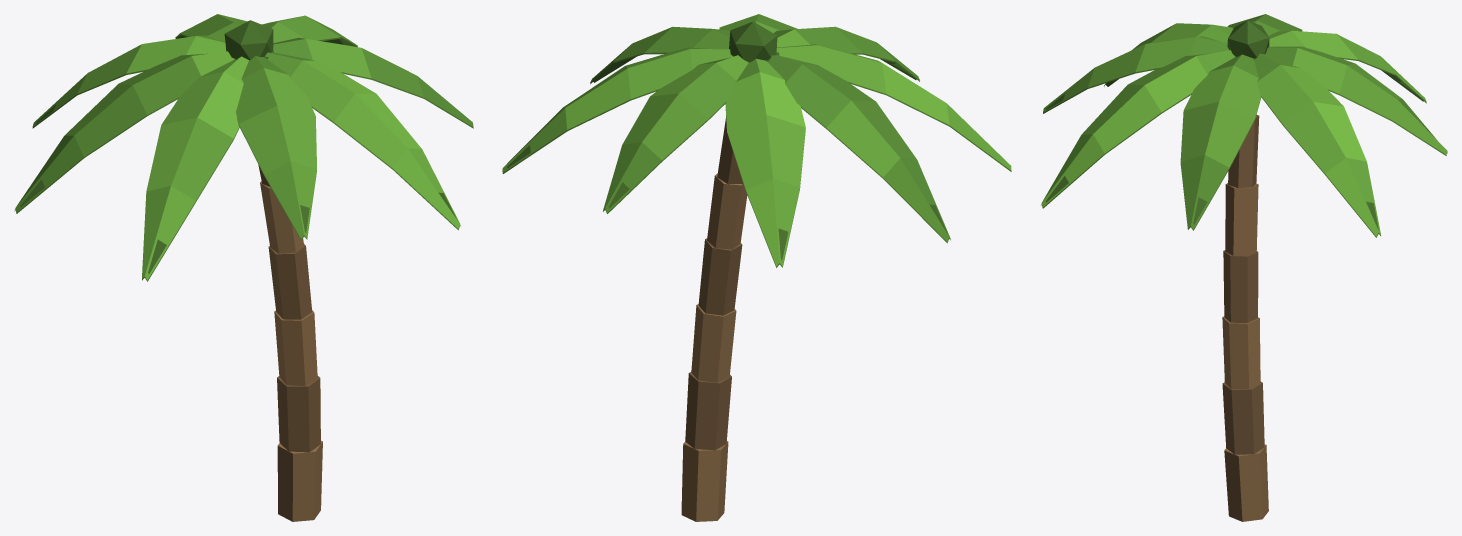
The model's file is palm_b.glb.
The picture shows the model from 3 angles, left to right: view 1: azimuth 30°, elevation 25°; view 2: azimuth 150°, elevation 25°; view 3: azimuth 270°, elevation 25°; orthographic projection. The views are drawn at different scales.
Parts seen in each view (by area): view 1: palm_b; view 2: palm_b; view 3: palm_b.
Boxes of the visible parts, x1=… form: palm_b: x1=14, y1=14, x2=473, y2=521; palm_b: x1=502, y1=14, x2=1011, y2=521; palm_b: x1=1041, y1=14, x2=1447, y2=521.
Bounding box in the file's own units: 4.52 × 5.34 × 4.18.
Materials: 1 (1 with a texture image).
